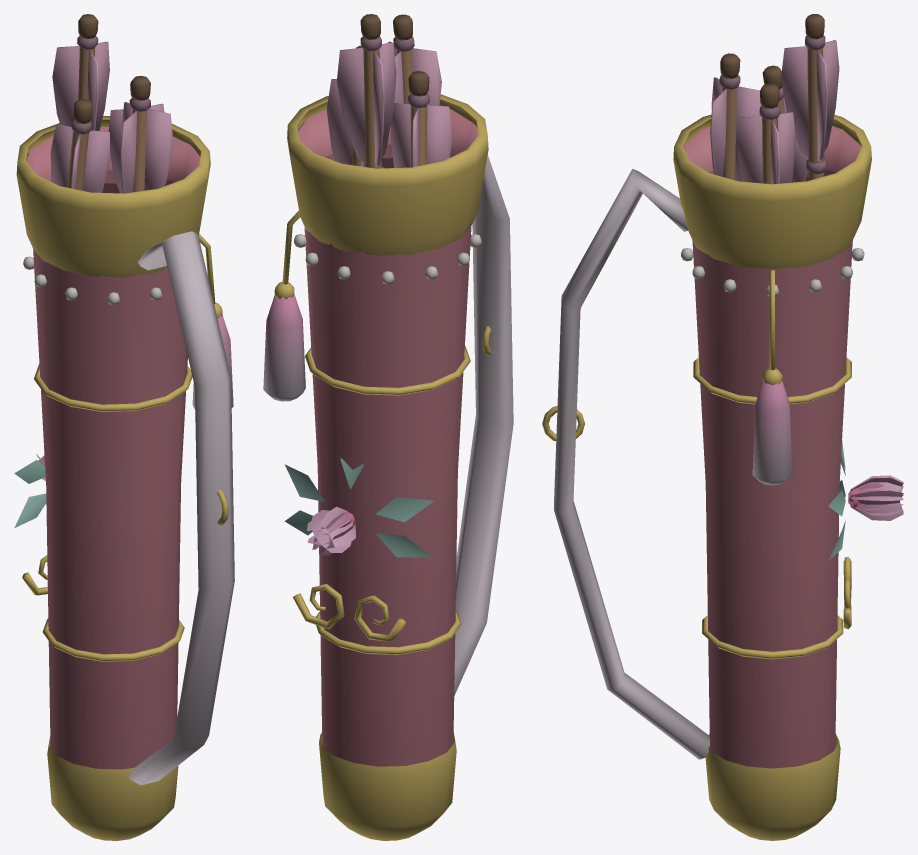
The model's file is quiver_spring.glb.
The picture shows the model from 3 angles, left to right: view 1: azimuth 30°, elevation 25°; view 2: azimuth 150°, elevation 25°; view 3: azimuth 270°, elevation 25°; orthographic projection. The views are drawn at different scales.
Visible parts, largest first — view 1: quiver_spring; view 2: quiver_spring; view 3: quiver_spring.
Part boxes in pixels (box(x1,y1,x2,y2)): quiver_spring: box(14, 14, 234, 840); quiver_spring: box(263, 14, 513, 840); quiver_spring: box(542, 14, 903, 840).
Size of what is drawn, in the model's own units: 0.1585 by 0.6011 by 0.2422.
